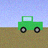vehicle: (18, 16, 43, 33)
